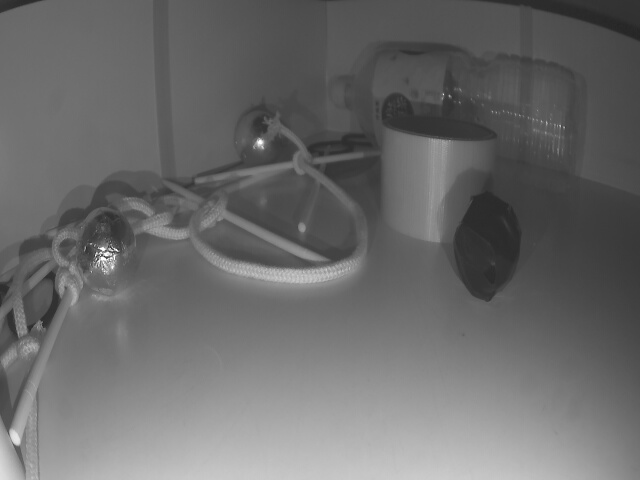Dead: (456, 194, 518, 297)
Live: (75, 213, 135, 297), (234, 110, 286, 168)
